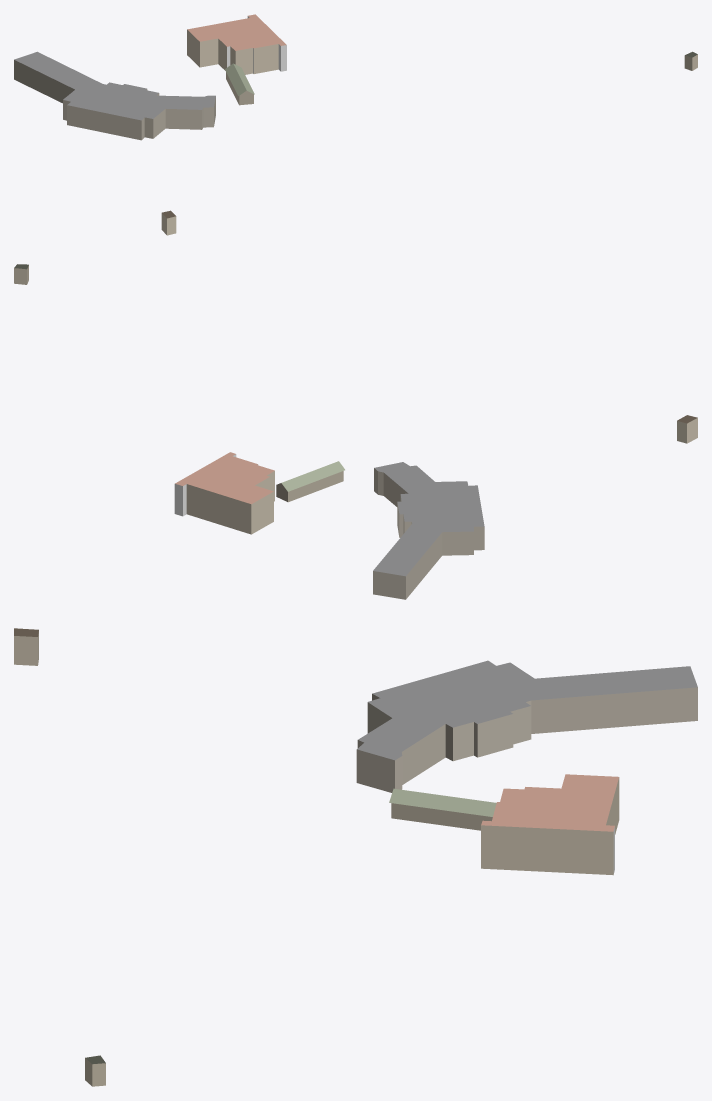
3 renders of one model, top to bottom at view 1: azimuth 30°, elevation 25°; view 2: azimuth 150°, elevation 25°; view 3: azimuth 270°, elevation 25°, orthographic. The views are drawn at different scales.
Parts seen in each view (by area): view 1: tuile; view 2: tuile; view 3: tuile.
Boxes of the visible parts, box(x1,y1,x2,y2) form: tuile: box(14, 14, 697, 235); tuile: box(14, 264, 697, 599); tuile: box(14, 628, 697, 1086).
Size of the model in its own units: 211 by 11.38 by 134.
